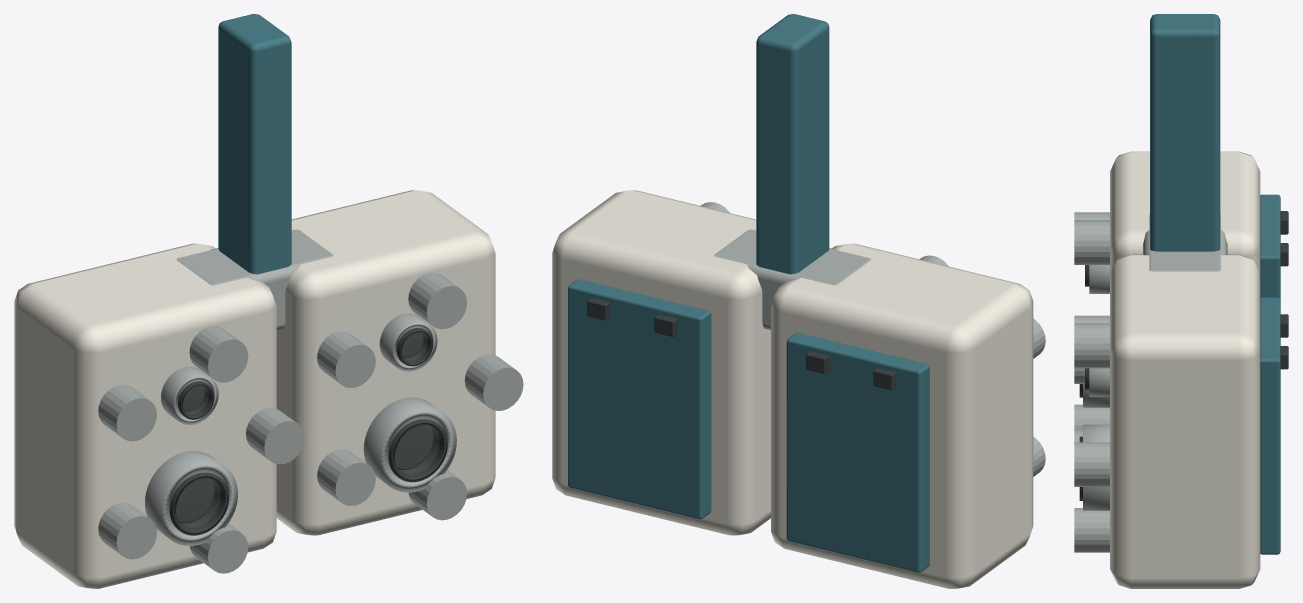
Rendered from optician-and-optical-lens-workshop-optician-and-optica-ddfdff5c__31671.glb.
The picture shows the model from 3 angles, left to right: view 1: azimuth 30°, elevation 25°; view 2: azimuth 150°, elevation 25°; view 3: azimuth 270°, elevation 25°; orthographic projection. The views are drawn at different scales.
Visible parts, largest first — view 1: optician-and-optical-lens-workshop-manual-phoropter; view 2: optician-and-optical-lens-workshop-manual-phoropter; view 3: optician-and-optical-lens-workshop-manual-phoropter.
Boxes of the visible parts, left/top/right/bottom form: optician-and-optical-lens-workshop-manual-phoropter: left=14, top=14, right=523, bottom=588; optician-and-optical-lens-workshop-manual-phoropter: left=552, top=14, right=1045, bottom=588; optician-and-optical-lens-workshop-manual-phoropter: left=1074, top=14, right=1288, bottom=588.
Size of the model in its own units: 0.501 by 0.56 by 0.228.
